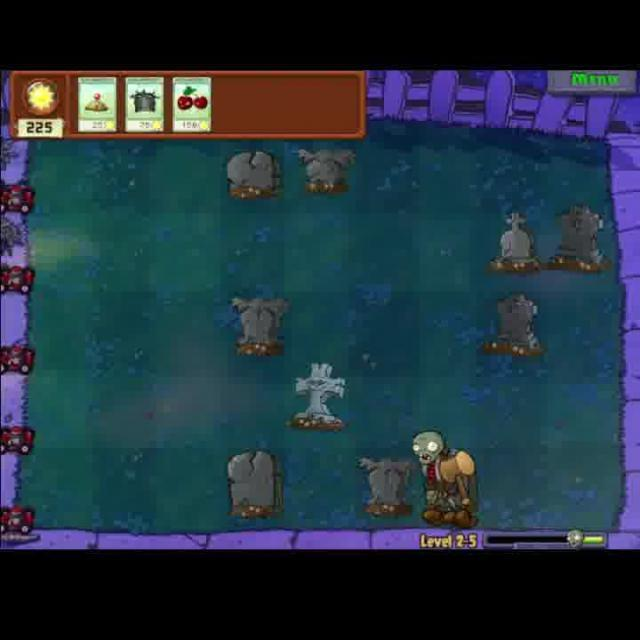zombies: (407, 426, 464, 526)
